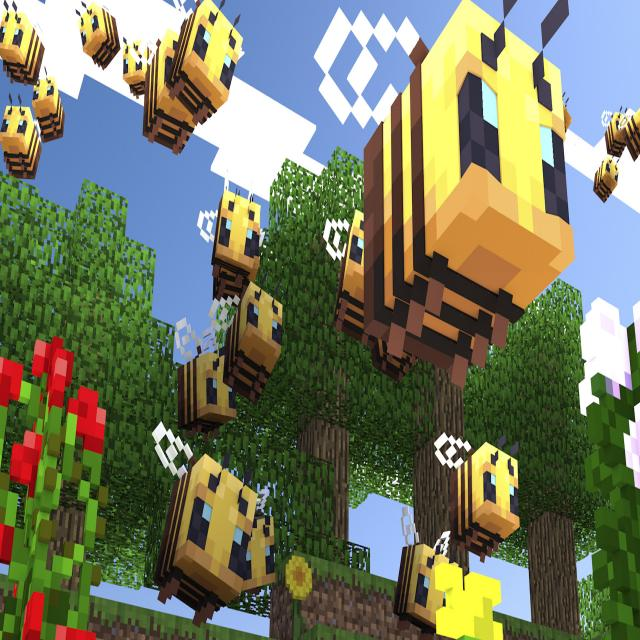Bee: (312, 0, 577, 398), (150, 419, 258, 630), (321, 198, 410, 348), (127, 0, 208, 159), (434, 425, 525, 563), (167, 0, 246, 129), (208, 280, 286, 409), (193, 170, 266, 303), (394, 499, 452, 639), (174, 312, 237, 436), (213, 494, 283, 603), (0, 0, 47, 94), (0, 90, 46, 186), (72, 0, 122, 76), (119, 31, 162, 101), (29, 67, 68, 144), (600, 102, 630, 158), (591, 153, 622, 206), (620, 106, 640, 166)
